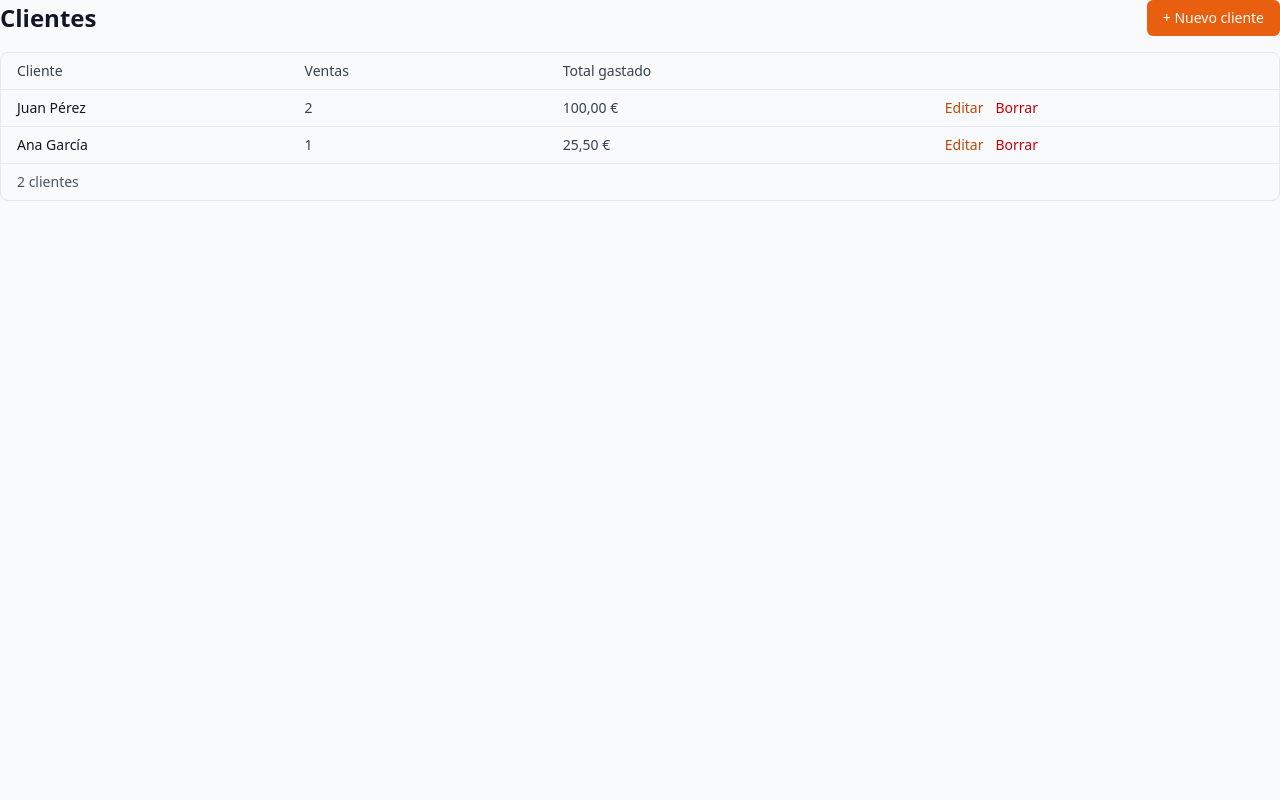
Scenario: CustomersListPage › el botón "Borrar" abre la confirmación del borrado
Click the button with aria-label "Borrar Juan Pérez" at x=1017, y=108, box [996,98,1038,118]
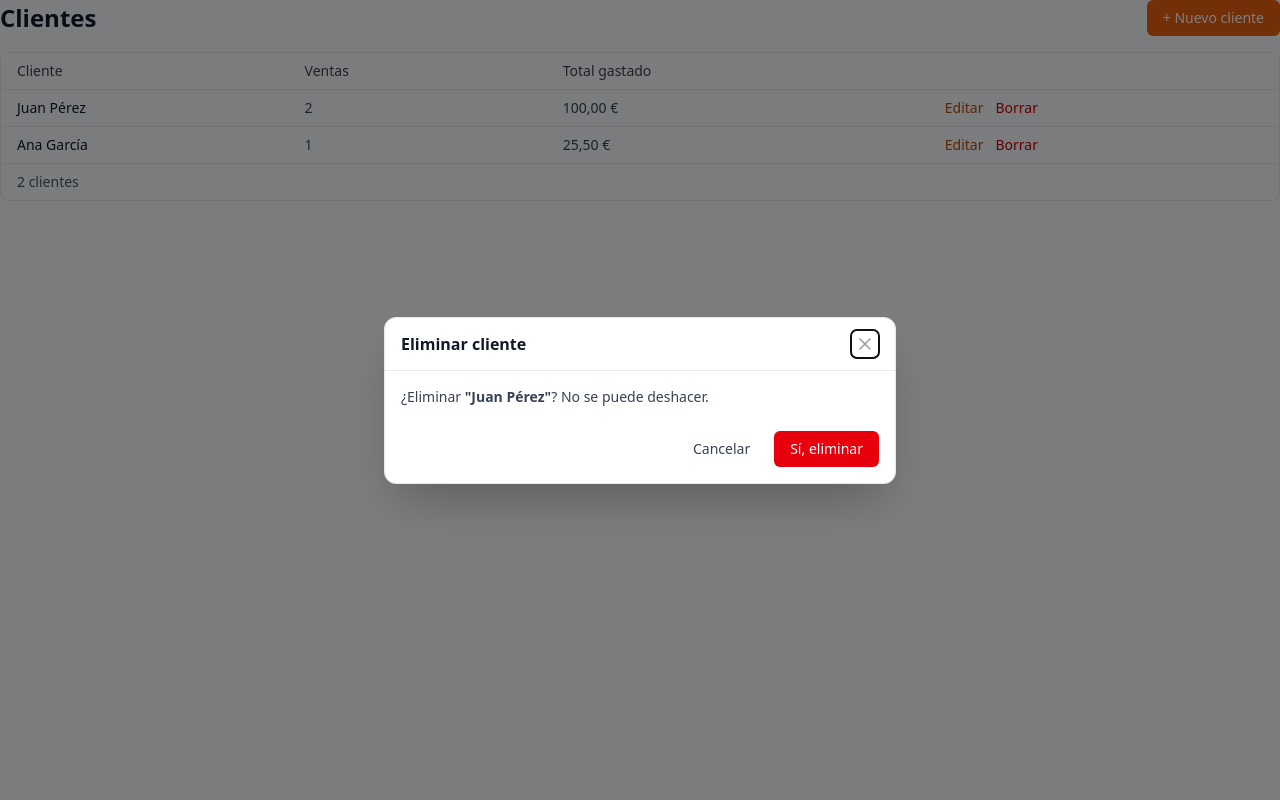
Check: the dialog is shown, box [384,316,896,484]
Check: the text "\"Juan Pérez\"" is shown, box [465,386,551,406]
Check: the text "¿Eliminar \"Juan Pérez\"? No se puede deshacer." is shown, box [401,386,709,406]
